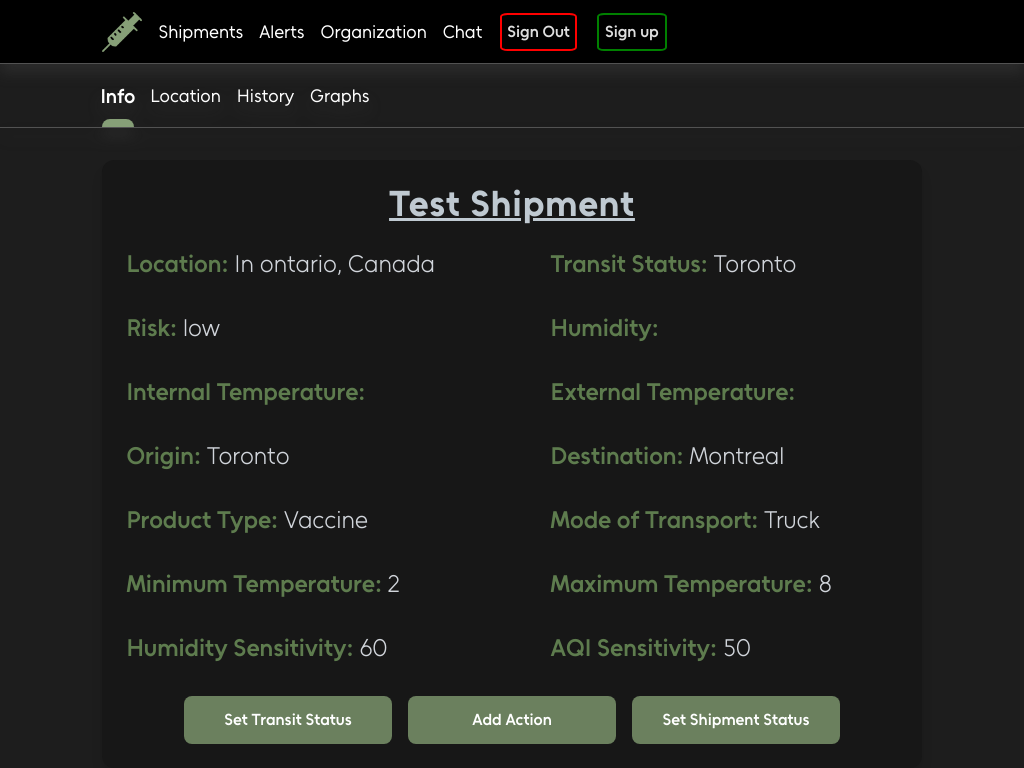
it: ShipmentPage › renders action history tab and displays actions
The width and height of the screenshot is (1024, 768).
Expected: the heading "Test Shipment" is shown, left=389, top=182, right=635, bottom=225
# Switch to history tab
Click the text "History" at (265, 96), box left=237, top=82, right=294, bottom=110
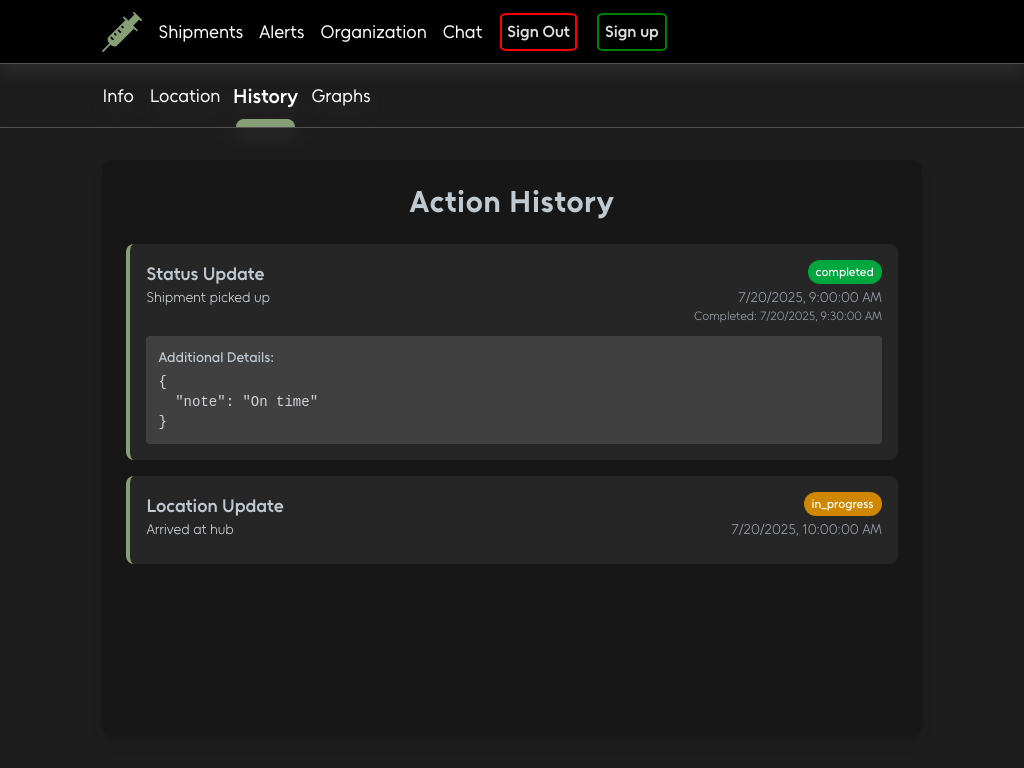
Expected: the heading "Action History" is shown, left=410, top=183, right=615, bottom=220
Expected: the text "Shipment picked up" is shown, left=146, top=288, right=270, bottom=308
Expected: the text "Arrived at hub" is shown, left=146, top=521, right=234, bottom=538
